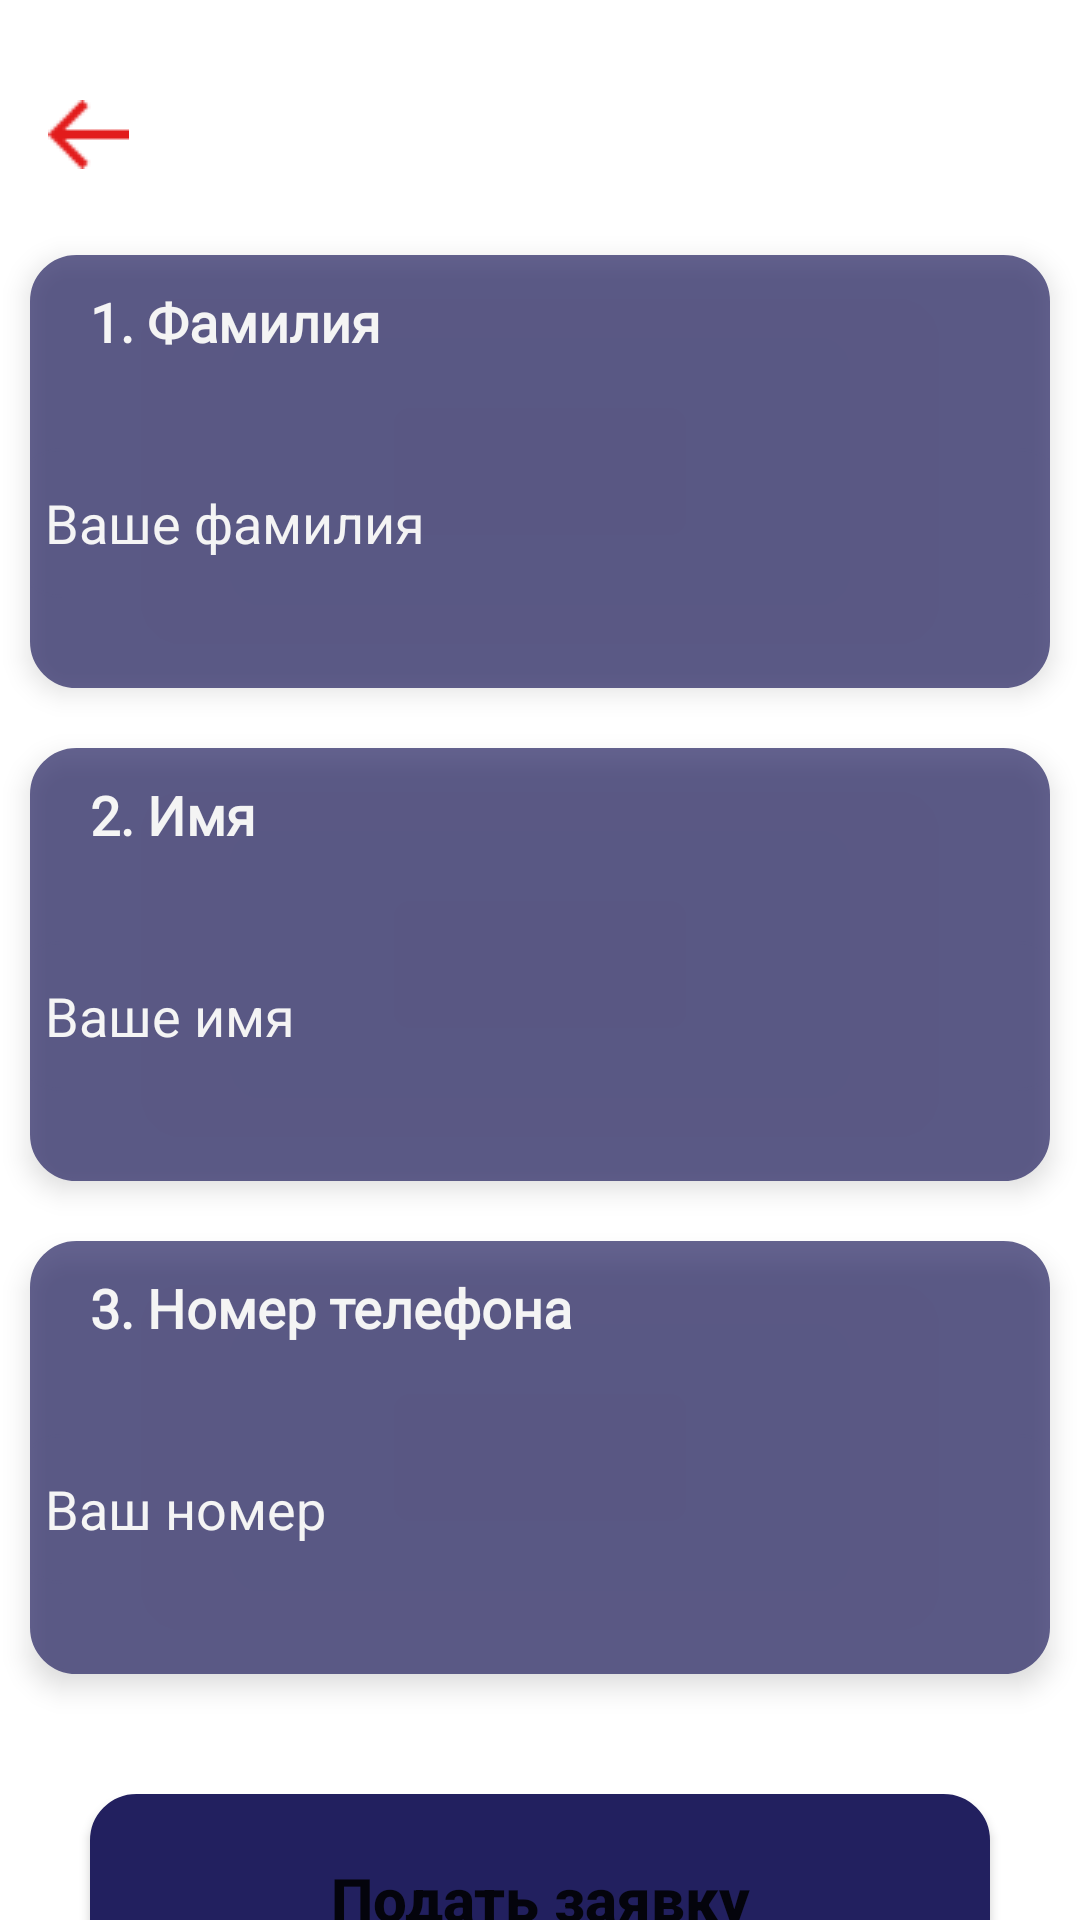

Where to tap for icons on this 1080px x 1920px app screen, as point (x, y):
back: point (88, 134)
